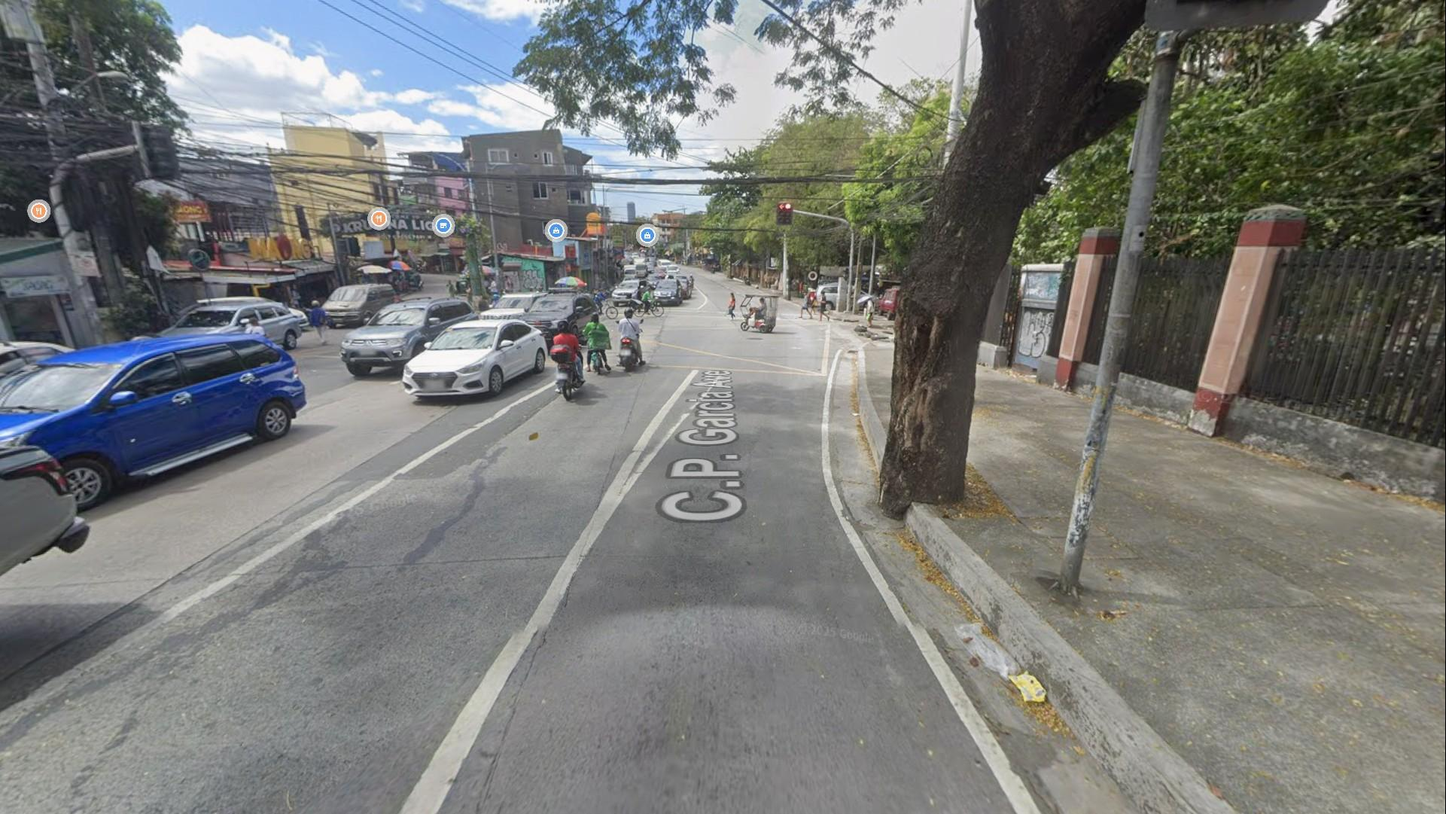cyclist: (579, 288, 618, 320), (629, 287, 665, 318)
pedestrian: (242, 317, 268, 377), (308, 300, 332, 346), (799, 290, 813, 320), (863, 295, 875, 328), (818, 290, 830, 322), (725, 292, 737, 321), (488, 277, 499, 303), (446, 279, 457, 304), (808, 290, 817, 316), (504, 275, 514, 298), (465, 284, 474, 306)
